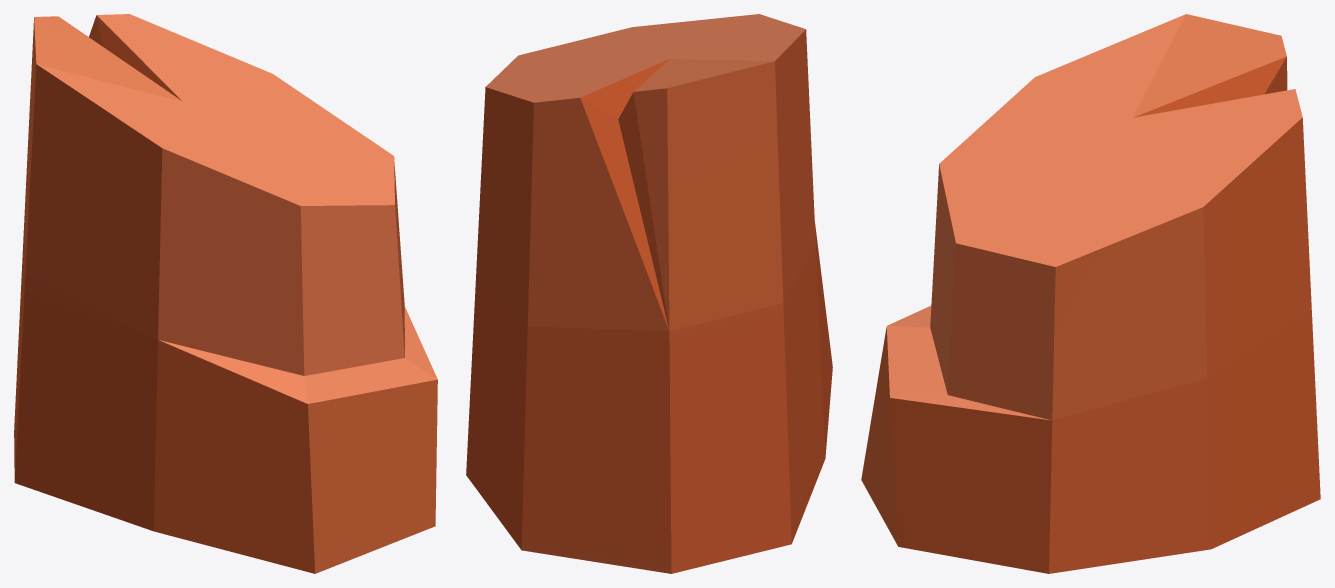
File: rock_03.fbx
3 views of the same model, side by side, from view 1: azimuth 30°, elevation 25°; view 2: azimuth 150°, elevation 25°; view 3: azimuth 270°, elevation 25° (orthographic). The views are drawn at different scales.
Visible parts, largest first — view 1: rock_03; view 2: rock_03; view 3: rock_03.
Part boxes in pixels (bbox=[...]): rock_03: bbox=[14, 14, 437, 573]; rock_03: bbox=[466, 14, 832, 573]; rock_03: bbox=[861, 14, 1320, 573].
Bounding box in the file's own units: 521 × 634 × 642.
